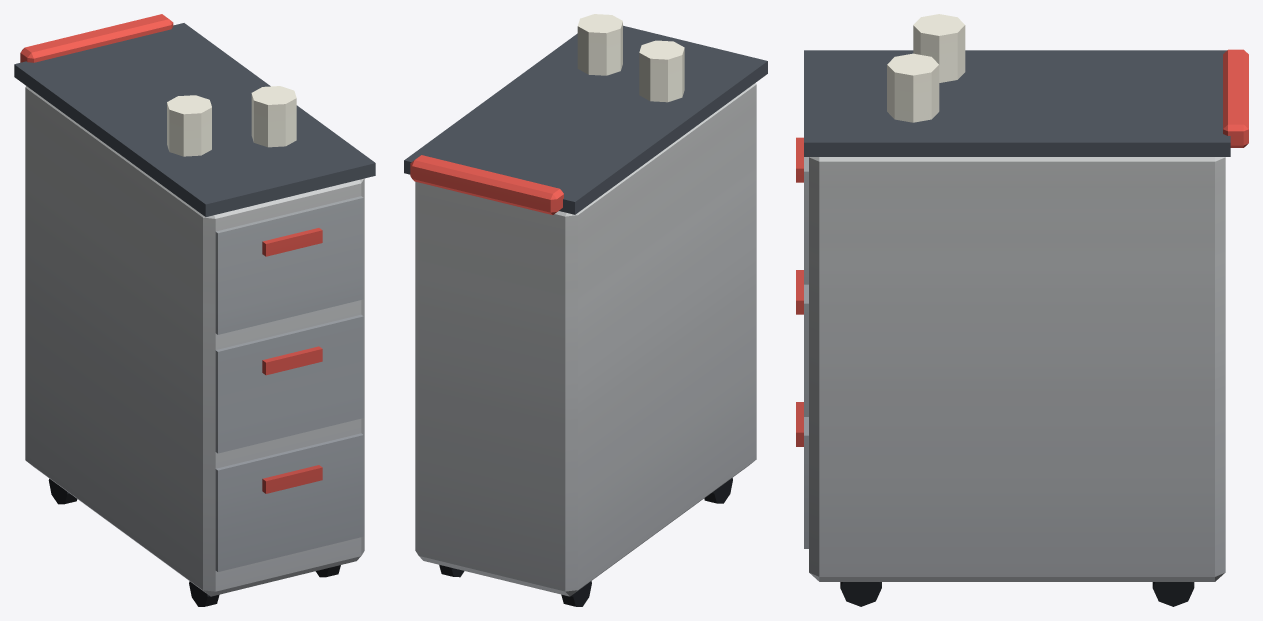
The model's file is Carrinho.glb.
The picture shows the model from 3 angles, left to right: view 1: azimuth 30°, elevation 25°; view 2: azimuth 150°, elevation 25°; view 3: azimuth 270°, elevation 25°; orthographic projection. The views are drawn at different scales.
Visible parts, largest first — view 1: Carrinho_Malha; view 2: Carrinho_Malha; view 3: Carrinho_Malha.
Part boxes in pixels (box(x1,y1,x2,y2)): Carrinho_Malha: box(14, 14, 375, 606); Carrinho_Malha: box(404, 14, 767, 606); Carrinho_Malha: box(796, 14, 1248, 606).
Size of the model in its own units: 0.42 by 1.11 by 0.87.
Materials: 1 (1 with a texture image).
